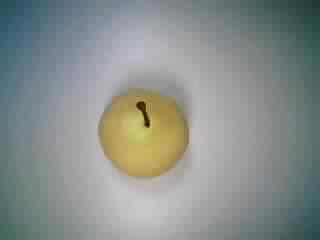pear: (86, 78, 202, 181)
